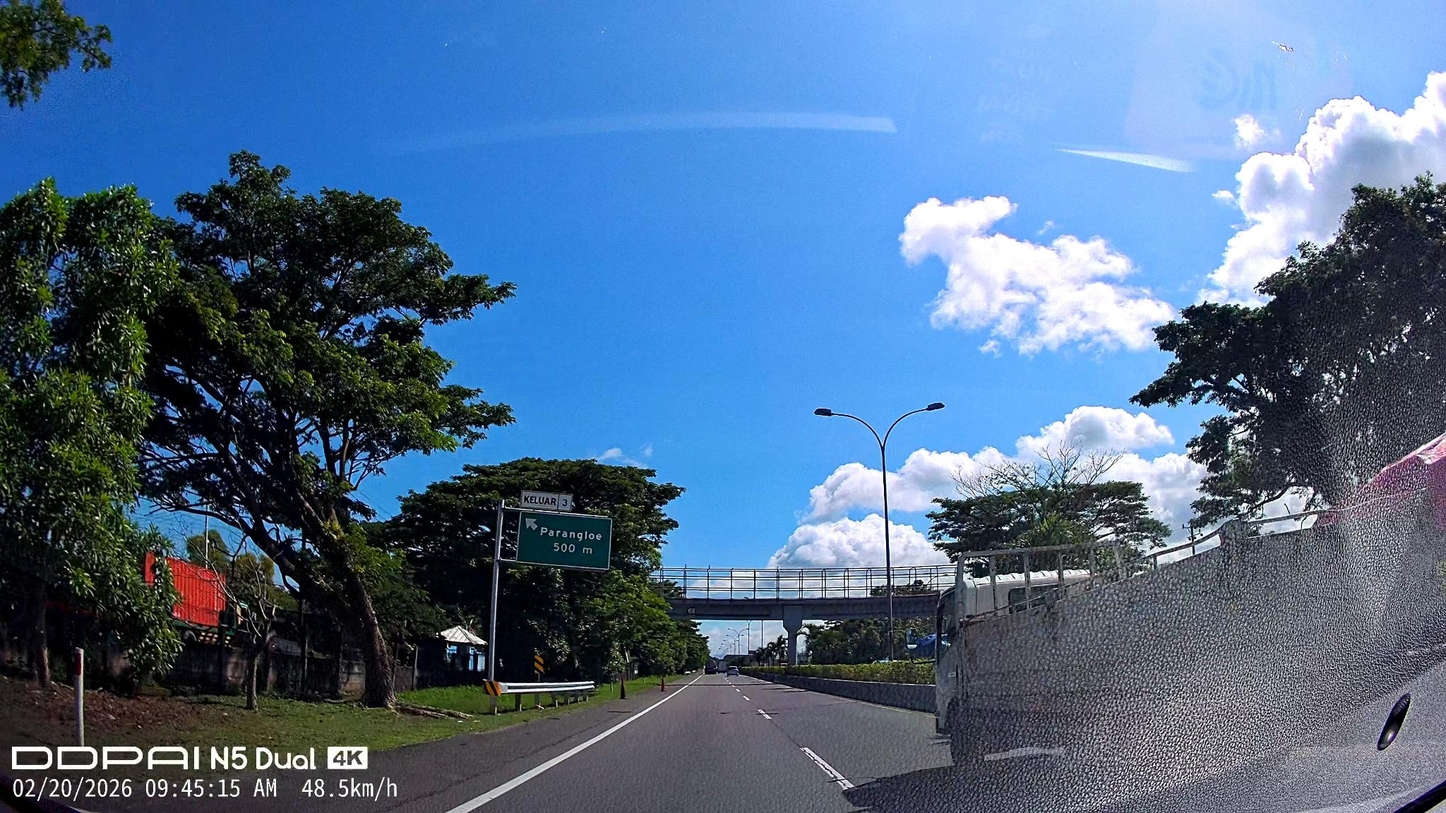rambu_teks: (514, 510, 614, 570)
